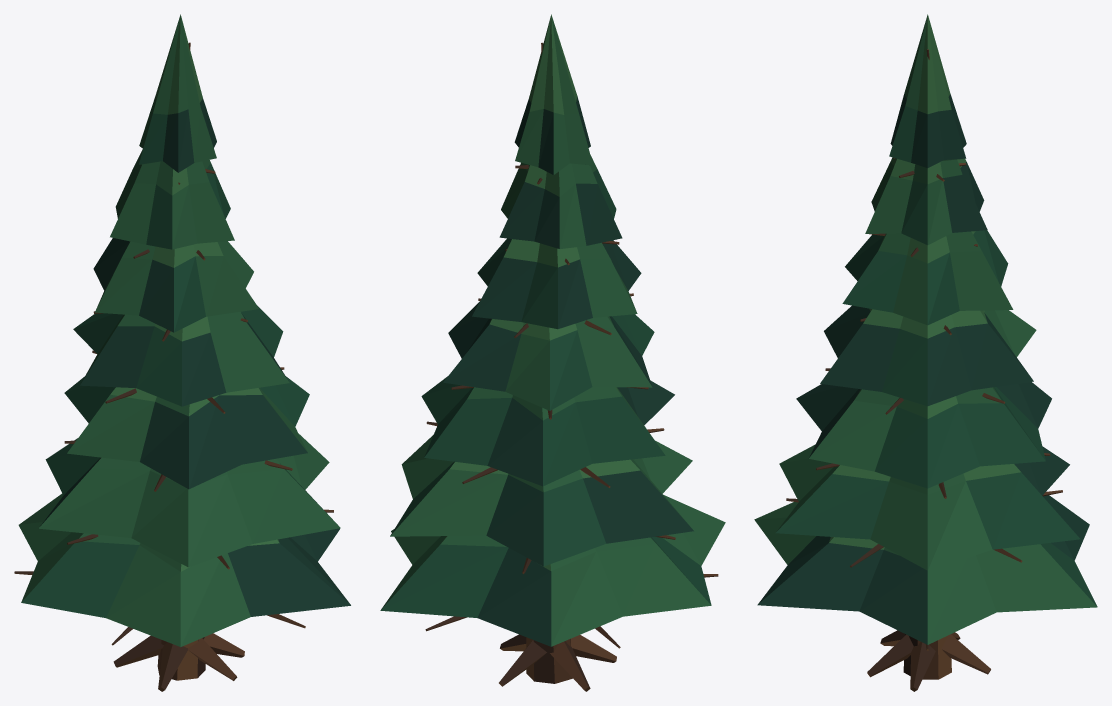
The model's file is tree_fir_dense.obj.
3 renders of one model, left to right at view 1: azimuth 30°, elevation 25°; view 2: azimuth 150°, elevation 25°; view 3: azimuth 270°, elevation 25°, orthographic.
Parts seen in each view (by area): view 1: tree_fir_dense; view 2: tree_fir_dense; view 3: tree_fir_dense.
Part boxes in pixels (x1,y1,x2,y2): tree_fir_dense: (14, 14, 350, 691); tree_fir_dense: (380, 14, 725, 691); tree_fir_dense: (754, 14, 1097, 691).
Bounding box in the file's own units: 371 × 730 × 346.
1 material, 1 textured.
